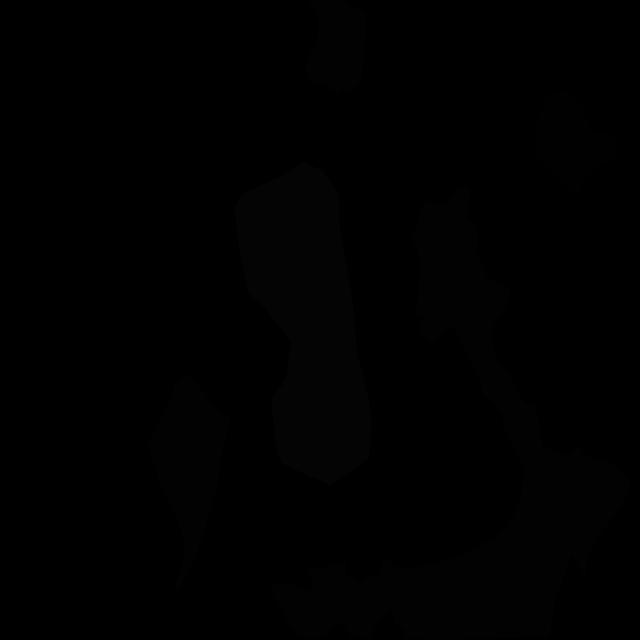cardboard: (384, 186, 631, 640), (148, 373, 231, 590), (304, 0, 366, 94), (326, 557, 394, 640), (269, 566, 340, 640)
rigid_plastic: (534, 90, 620, 194)
soft_plastic: (234, 162, 372, 486)
